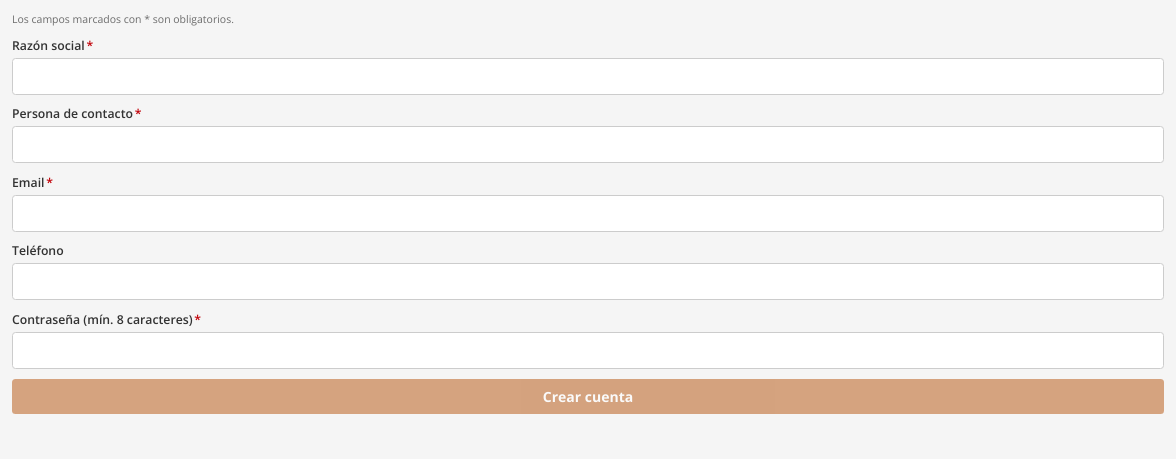
Test: RegisterForm › shows the server error when the account cannot be created
Type "Empresa Test" into the field labelled "Razón social*" at (588, 76), box [12,58,1164,94]
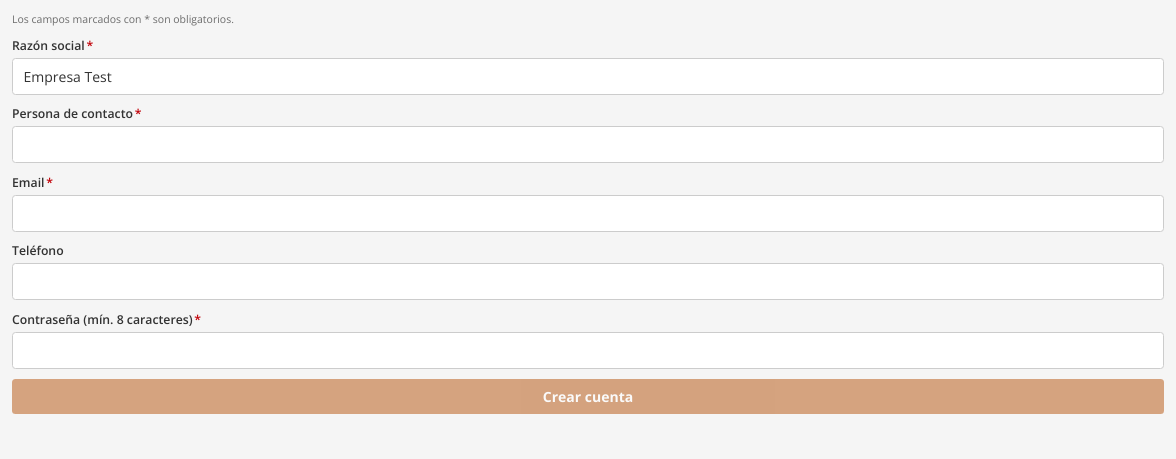
Type "Juan Pérez" into the field labelled "Persona de contacto*" at (588, 144), box [12,126,1164,163]
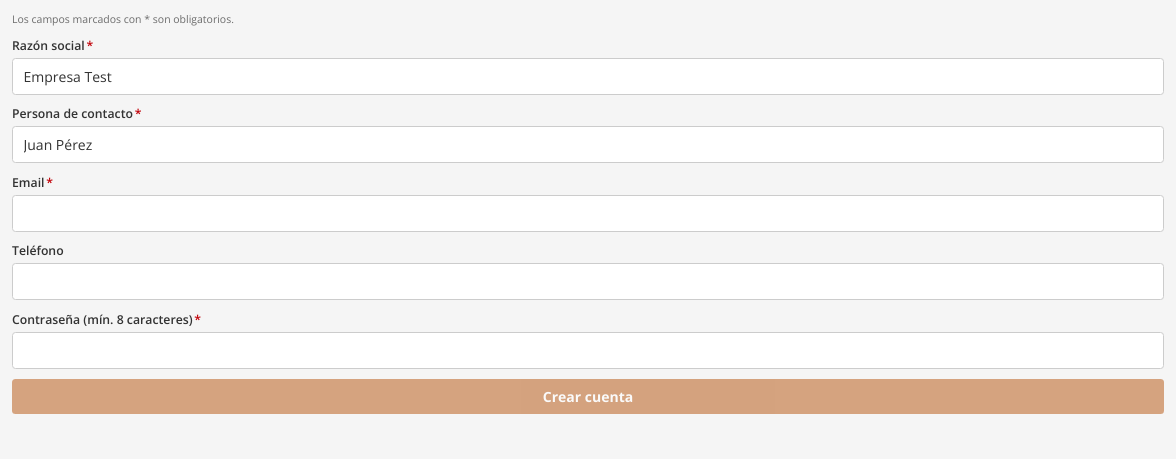
Type "test@example.com" into the field labelled "Email*" at (588, 213), box [12,194,1164,232]
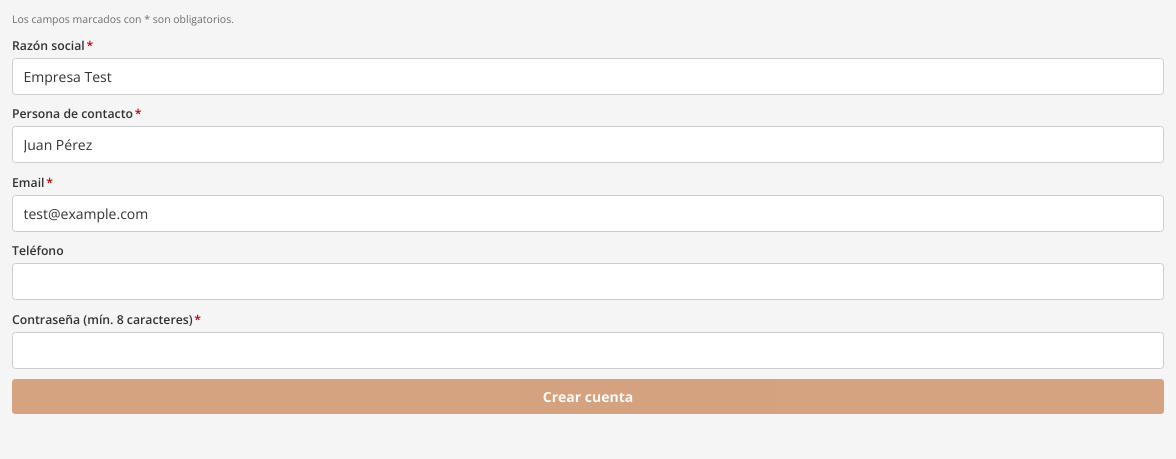
Type "555-1234" into the field labelled "Teléfono" at (588, 282), box [12,263,1164,300]
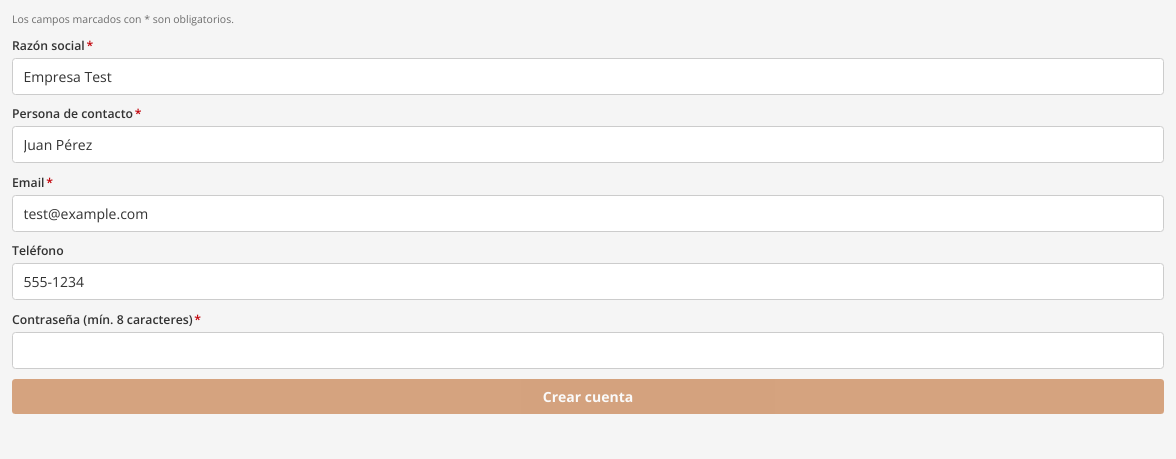
Type "password123" into the password field labelled "Contraseña (mín. 8 caracteres)*" at (588, 350), box [12,332,1164,368]
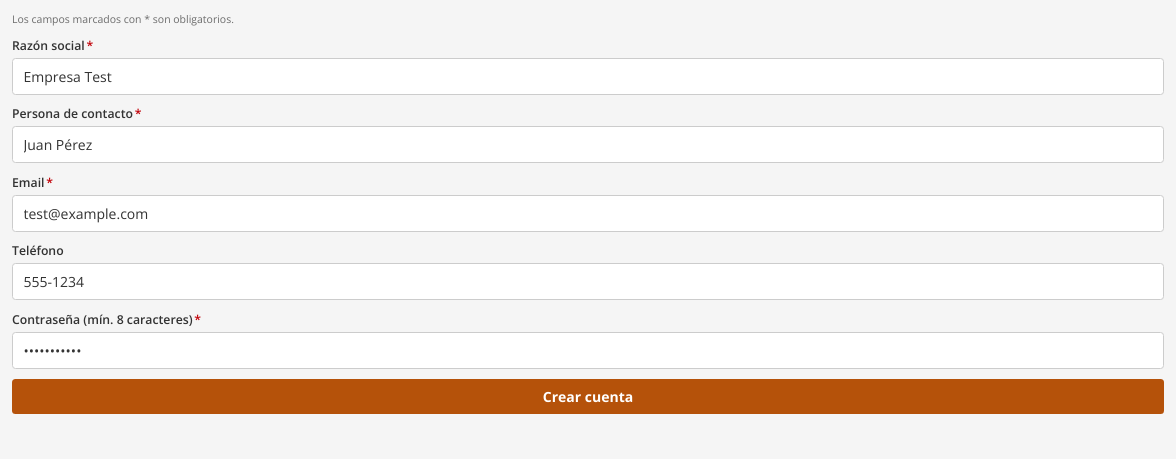
Click the button "Crear cuenta" at (588, 396), box [12,379,1164,414]
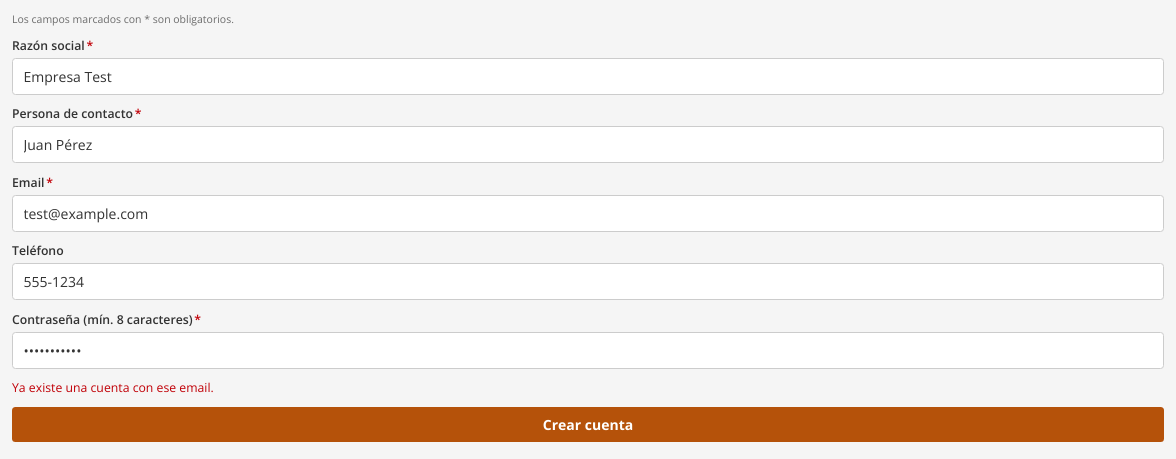
Check: the message reads "Ya existe una cuenta con ese email.", box [12,379,214,396]
